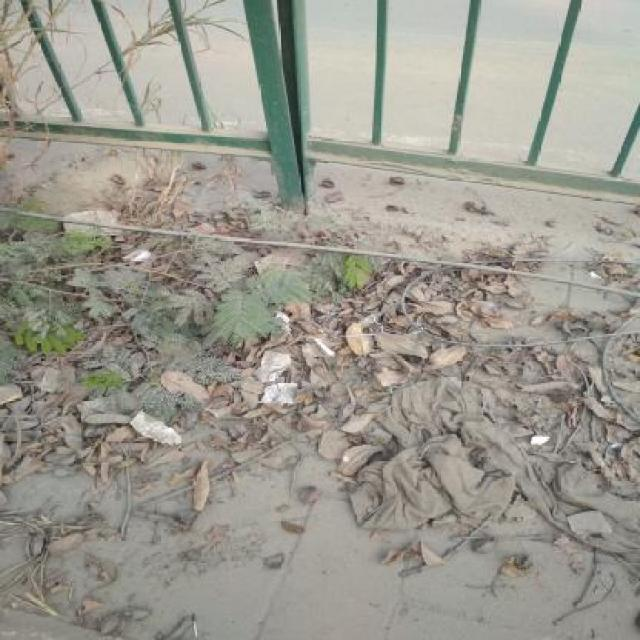garbage: (266, 320, 639, 556), (326, 177, 628, 318), (17, 376, 254, 530), (392, 248, 640, 390), (77, 160, 302, 264)
